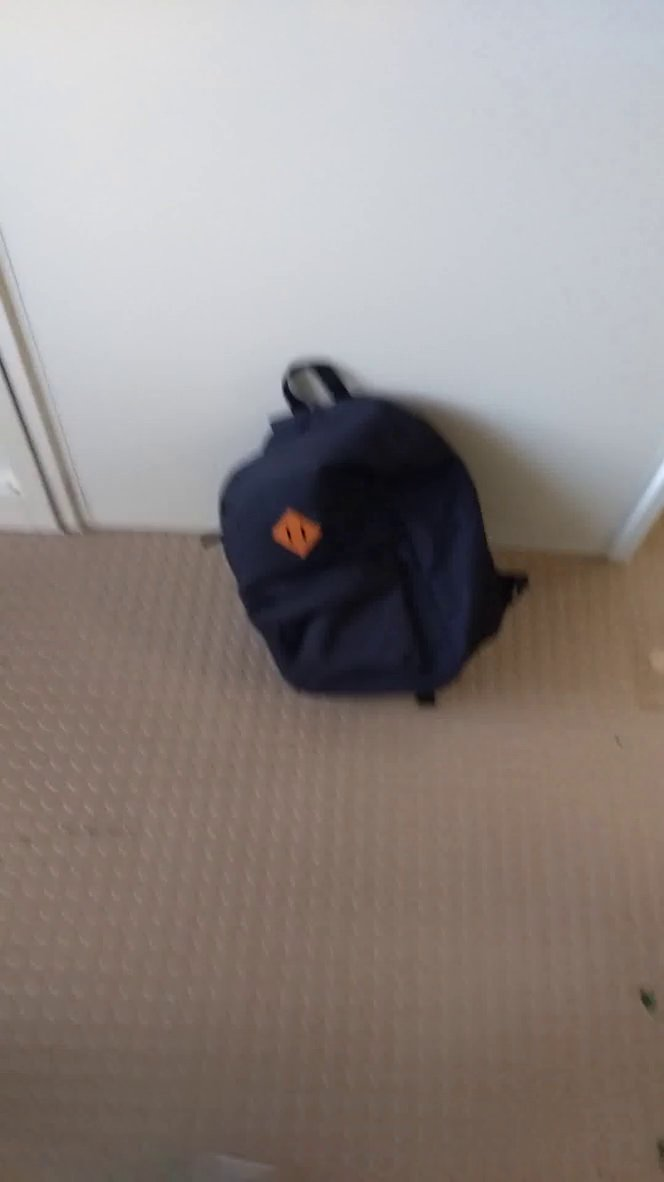bag: (186, 344, 544, 731)
